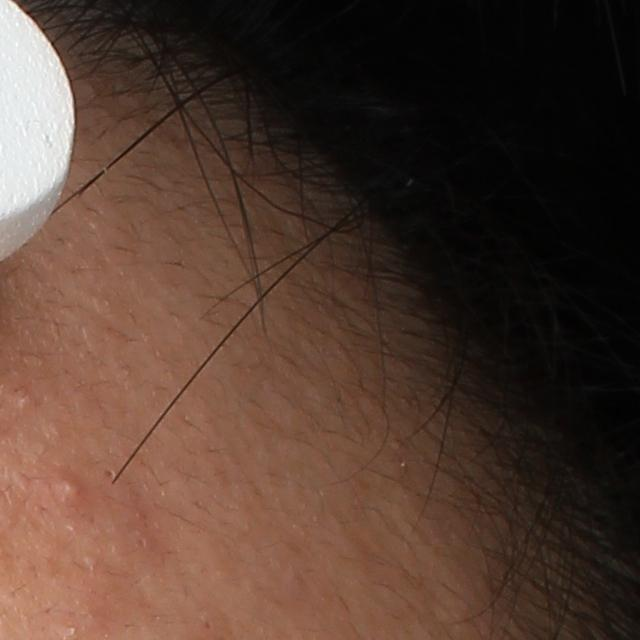papule: (57, 474, 86, 504)
